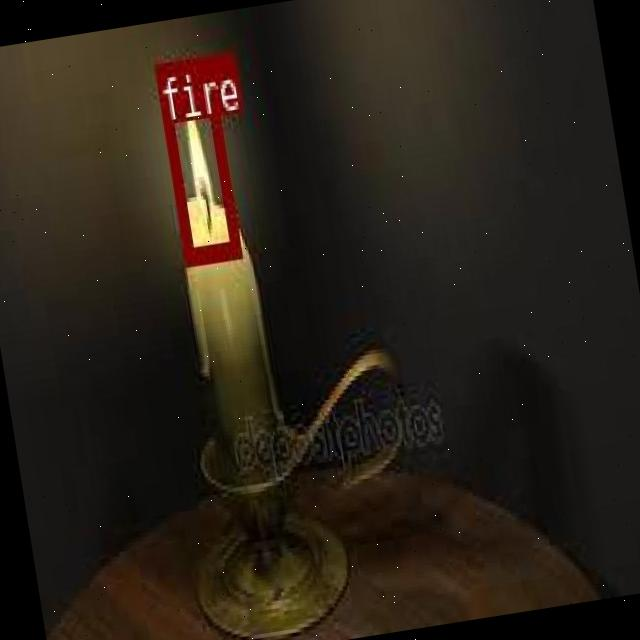fire: (152, 56, 240, 262)
